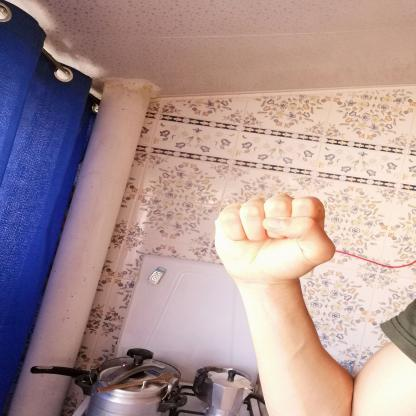SAD: (190, 183, 350, 294)
